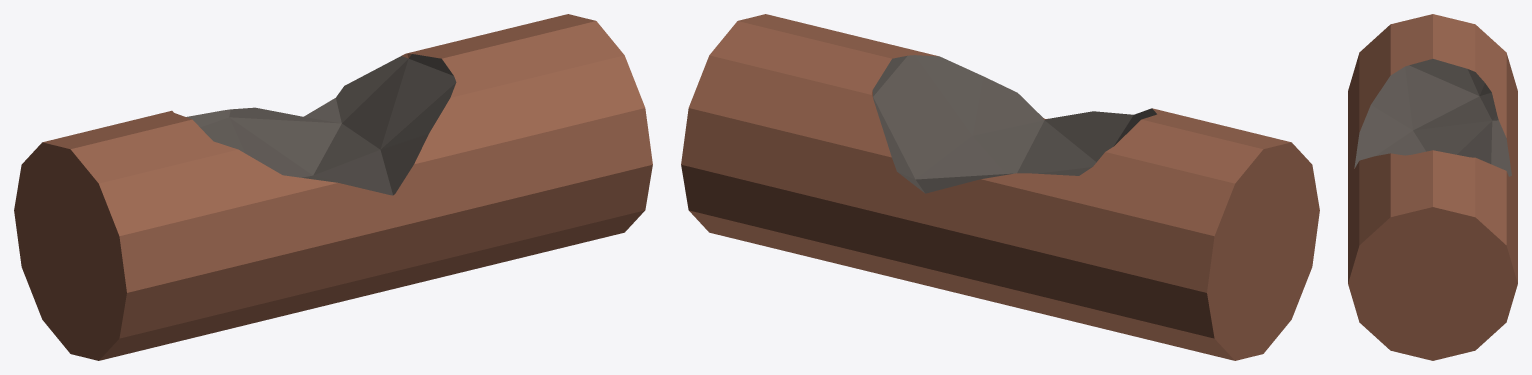
The model's file is Wh_Heatpipe_Damaged.fbx.
3 renders of one model, left to right at view 1: azimuth 30°, elevation 25°; view 2: azimuth 150°, elevation 25°; view 3: azimuth 270°, elevation 25°, orthographic. The views are drawn at different scales.
Visible parts, largest first — view 1: Cylinder.003; view 2: Cylinder.003; view 3: Cylinder.003.
Part boxes in pixels (x1,y1,x2,y2): Cylinder.003: (14, 14, 652, 360); Cylinder.003: (681, 14, 1319, 360); Cylinder.003: (1348, 14, 1517, 360).
Bounding box in the file's own units: 200 × 74.4 × 74.4.
